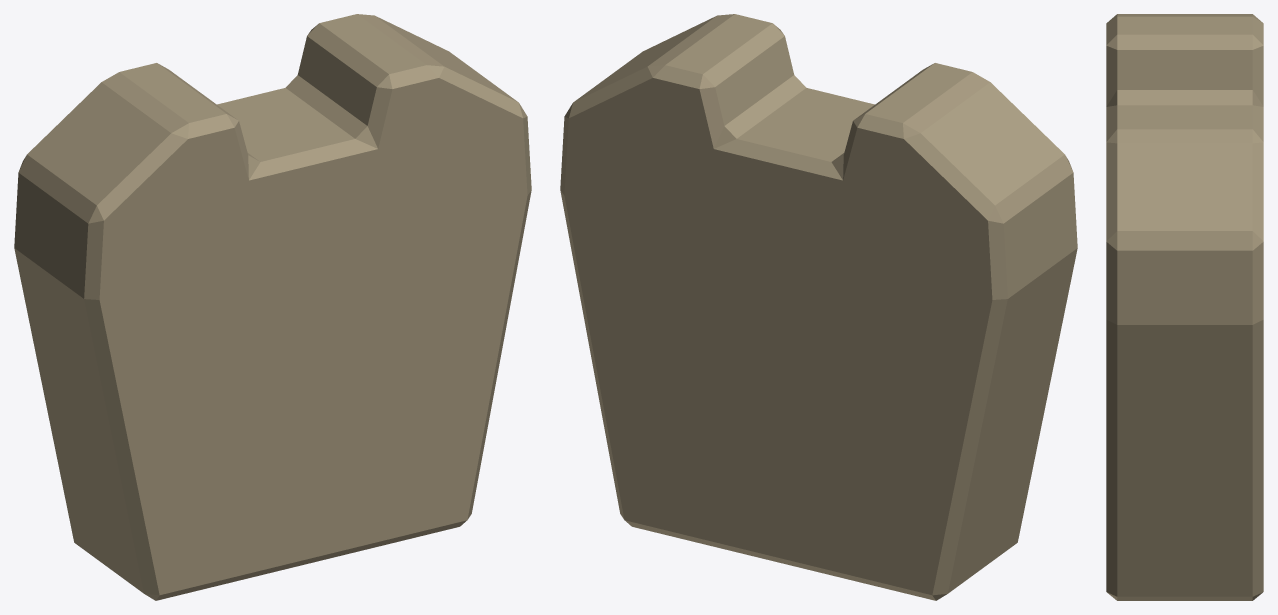
File: heavy_chest.glb
The picture shows the model from 3 angles, left to right: view 1: azimuth 30°, elevation 25°; view 2: azimuth 150°, elevation 25°; view 3: azimuth 270°, elevation 25°; orthographic projection. The views are drawn at different scales.
Parts seen in each view (by area): view 1: heavy_chest; view 2: heavy_chest; view 3: heavy_chest.
Boxes of the visible parts, bbox=[...] form: heavy_chest: bbox=[14, 14, 531, 600]; heavy_chest: bbox=[560, 14, 1077, 600]; heavy_chest: bbox=[1106, 14, 1263, 600].
Bounding box in the file's own units: 1.15 × 1.15 × 0.36.
